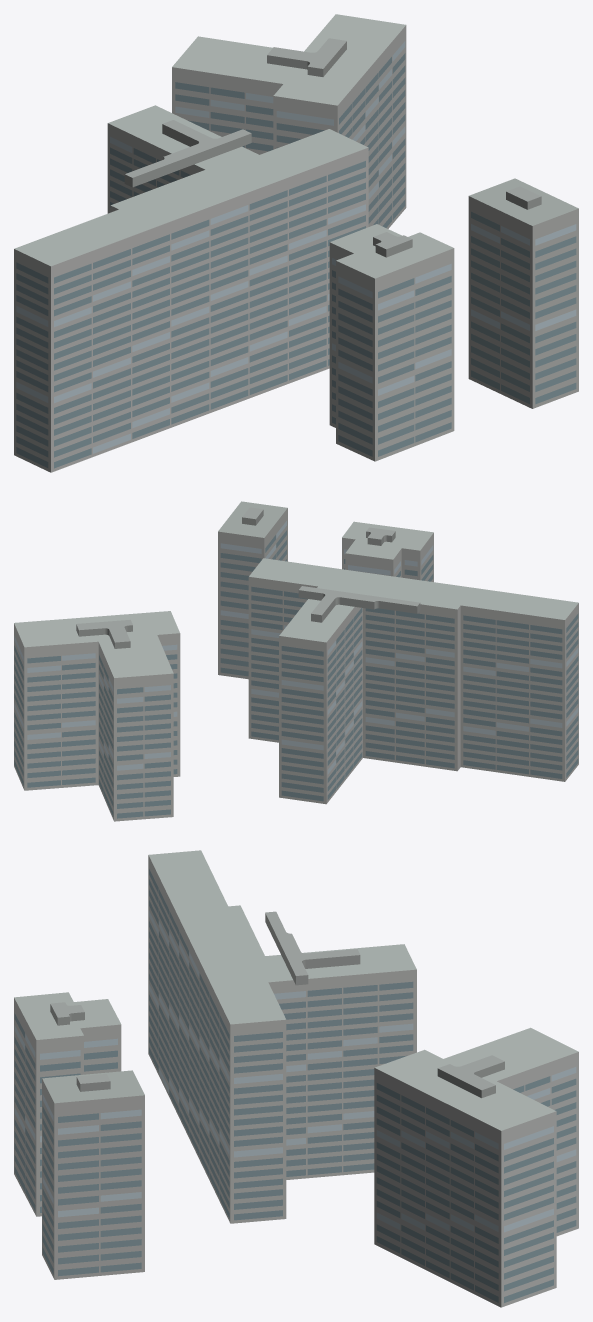
Rendered from apt-a13509003.glb.
3 renders of one model, top to bottom at view 1: azimuth 30°, elevation 25°; view 2: azimuth 150°, elevation 25°; view 3: azimuth 270°, elevation 25°, orthographic. The views are drawn at different scales.
Visible parts, largest first — view 1: apt-a13509003; view 2: apt-a13509003; view 3: apt-a13509003.
Part boxes in pixels (<box>): apt-a13509003: <box>14,14,578,472</box>; apt-a13509003: <box>14,501,578,821</box>; apt-a13509003: <box>14,850,578,1307</box>.
Size of the model in its own units: 143 by 54 by 133.
